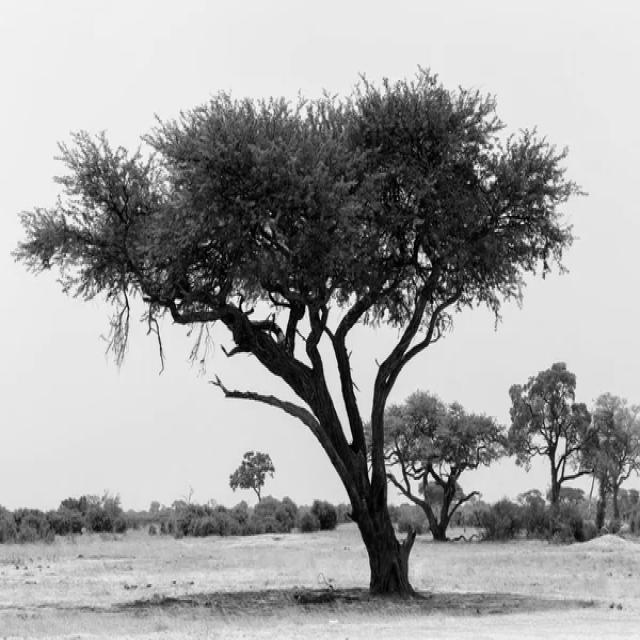Acacia: (21, 71, 604, 594)
